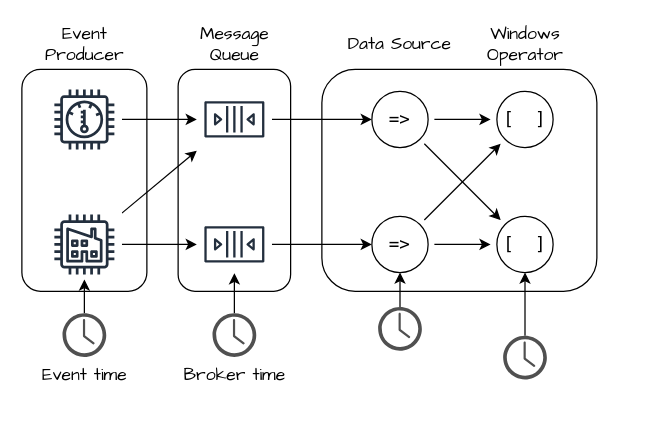
Some shapes in this 649 by 430 pixel diagram are drawn without their labels. Each missing label, with the centre of its shape:
Ingestion time: the point at 399,328
Windows processing time: the point at 524,357
